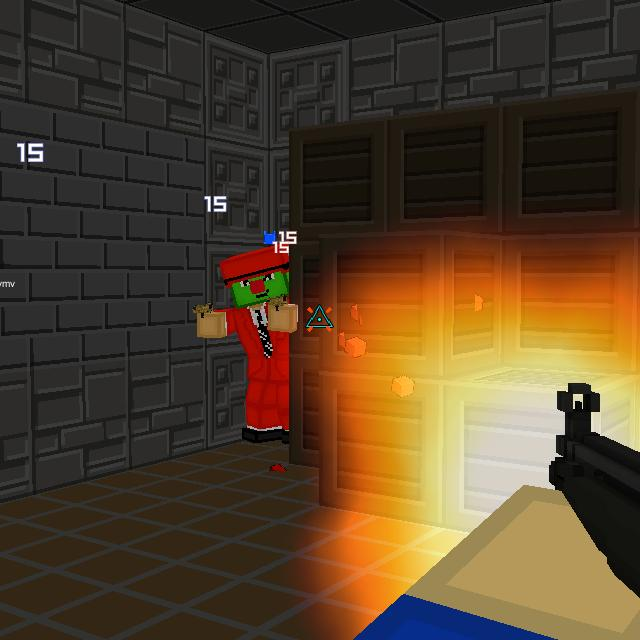enemy: (225, 236, 291, 445)
